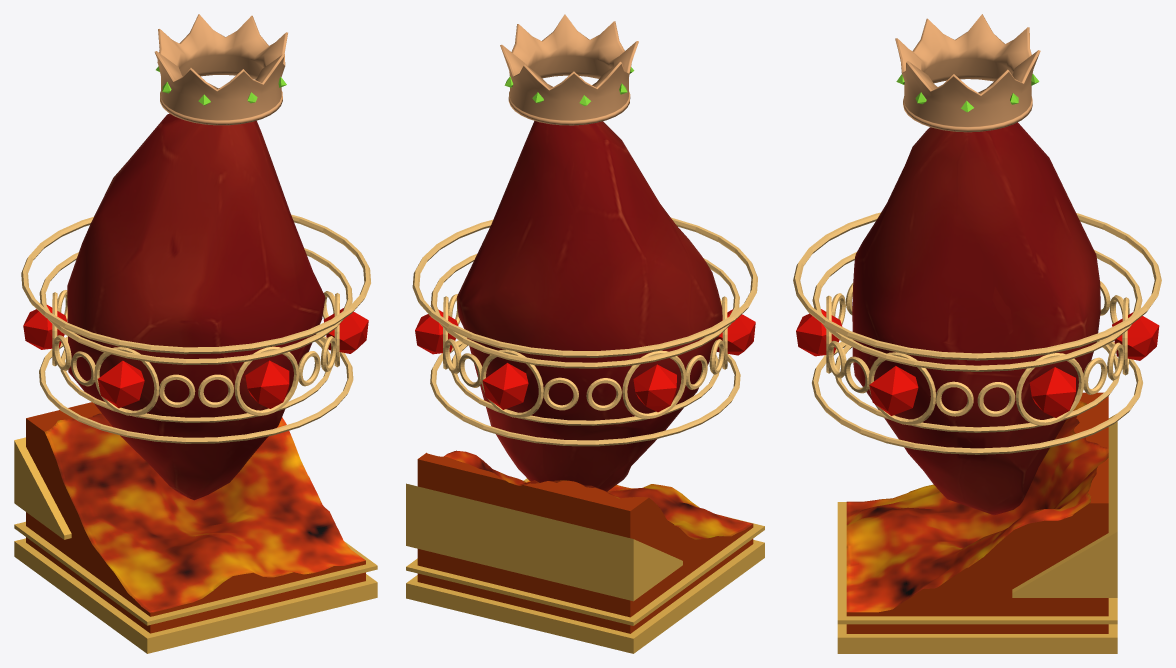
The model's file is JadeArdinals_172.glb.
3 views of the same model, side by side, from view 1: azimuth 30°, elevation 25°; view 2: azimuth 150°, elevation 25°; view 3: azimuth 270°, elevation 25° (orthographic). The views are drawn at different scales.
Parts seen in each view (by area): view 1: Red, Volcano, RubyBelt, crownGreenTop; view 2: Red, Volcano, RubyBelt, crownGreenTop; view 3: Red, Volcano, RubyBelt, crownGreenTop.
Part boxes in pixels (left/top/right/bottom): Red: left=67, top=113, right=325, bottom=500; Volcano: left=14, top=402, right=377, bottom=653; RubyBelt: left=21, top=214, right=370, bottom=443; crownGreenTop: left=154, top=14, right=287, bottom=125; Red: left=457, top=121, right=722, bottom=491; Volcano: left=406, top=450, right=764, bottom=653; RubyBelt: left=412, top=217, right=757, bottom=446; crownGreenTop: left=500, top=14, right=638, bottom=125; Red: left=852, top=122, right=1100, bottom=515; Volcano: left=837, top=392, right=1117, bottom=653; RubyBelt: left=793, top=212, right=1161, bottom=454; crownGreenTop: left=895, top=14, right=1040, bottom=132.
Size of the model in its own units: 2.82 by 4.73 by 2.82.
9 materials, 2 textured.
